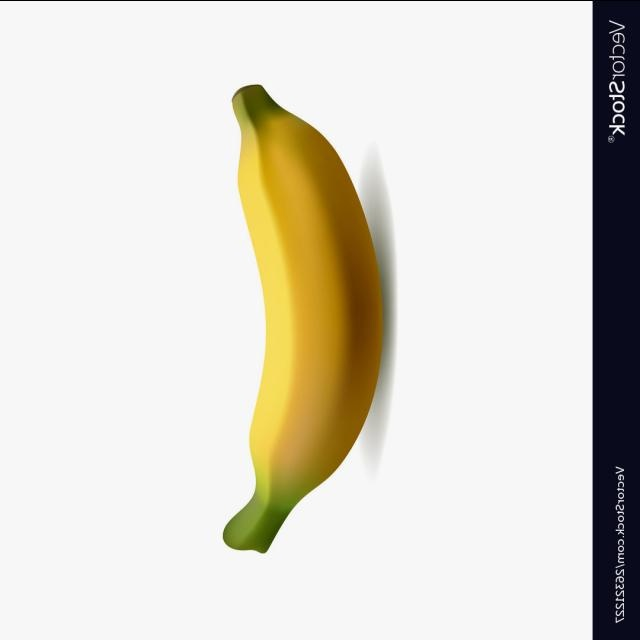agrume: (221, 86, 387, 554)
